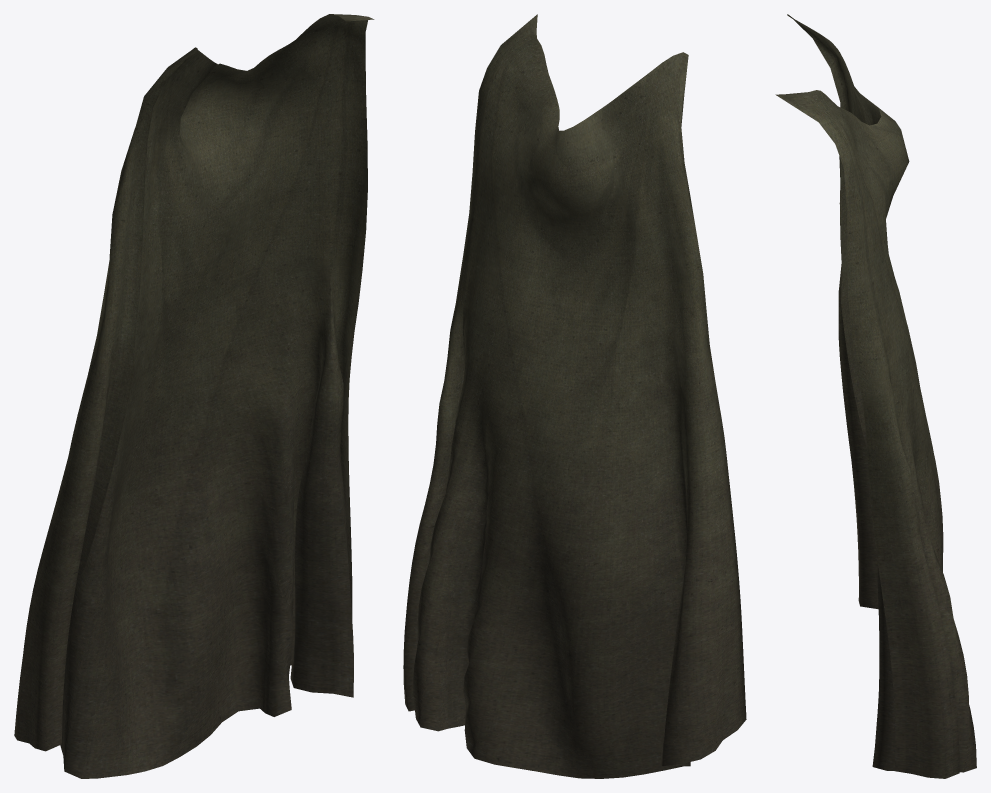
File: clo_mirkwood_shoulder.fbx
The picture shows the model from 3 angles, left to right: view 1: azimuth 30°, elevation 25°; view 2: azimuth 150°, elevation 25°; view 3: azimuth 270°, elevation 25°; orthographic projection. The views are drawn at different scales.
Visible parts, largest first — view 1: clo_mirkwood_shoulder; view 2: clo_mirkwood_shoulder; view 3: clo_mirkwood_shoulder.
Part boxes in pixels (x1,y1,x2,y2): clo_mirkwood_shoulder: (14,14,374,778); clo_mirkwood_shoulder: (403,14,746,778); clo_mirkwood_shoulder: (775,14,976,778).
Size of the model in its own units: 0.6161 by 0.3469 by 1.34.
Materials: 1 (1 with a texture image).
